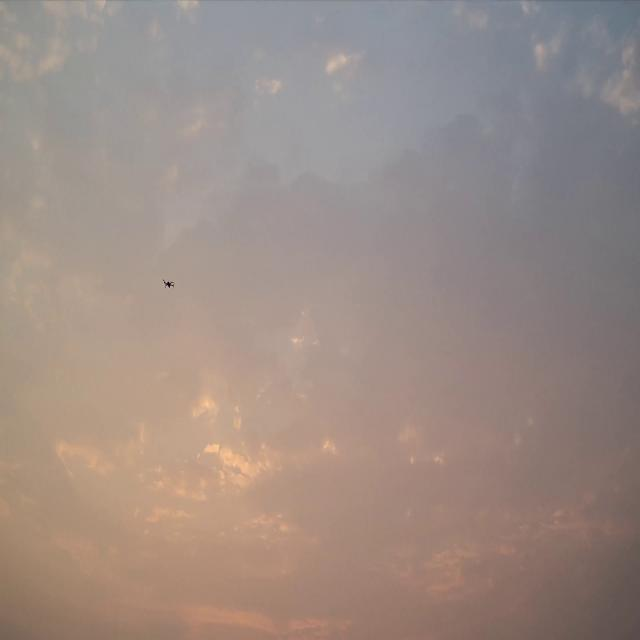UAV: (162, 278, 176, 288)
